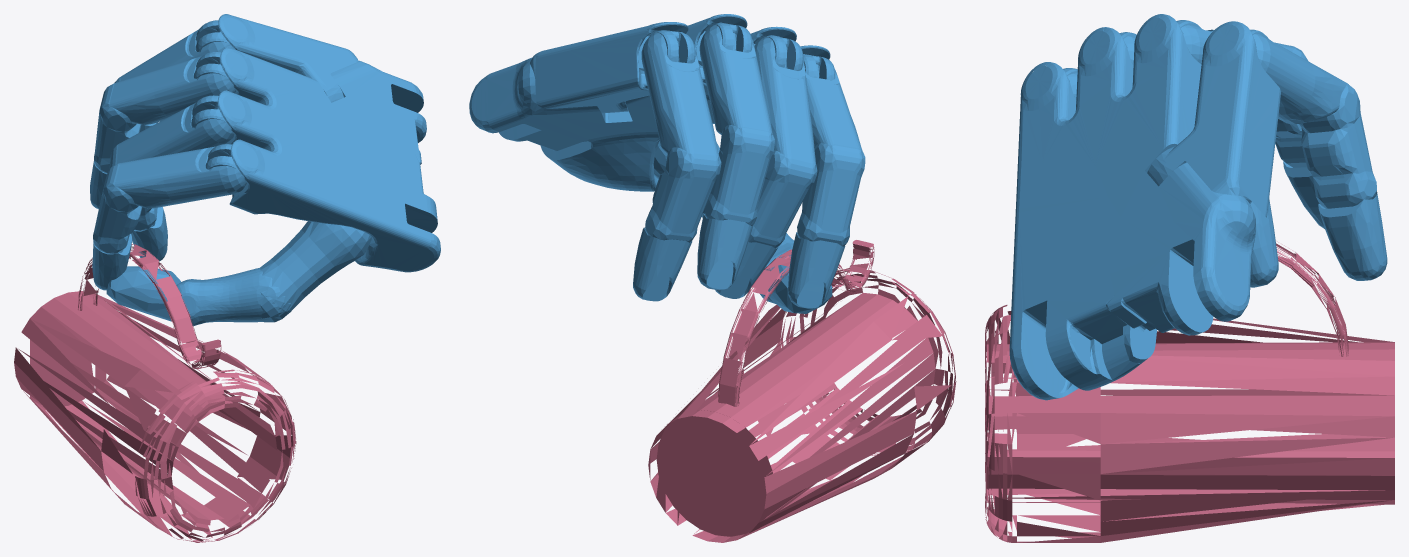
3 views of the same model, side by side, from view 1: azimuth 30°, elevation 25°; view 2: azimuth 150°, elevation 25°; view 3: azimuth 270°, elevation 25° (orthographic). The views are drawn at different scales.
Visible parts, largest first — view 1: 0; view 2: 0; view 3: 0.
Part boxes in pixels (left/top/right/bottom): 0: left=14, top=14, right=440, bottom=542; 0: left=469, top=14, right=956, bottom=542; 0: left=985, top=14, right=1394, bottom=542.
Size of the model in its own units: 0.1665 by 0.1905 by 0.1242.
